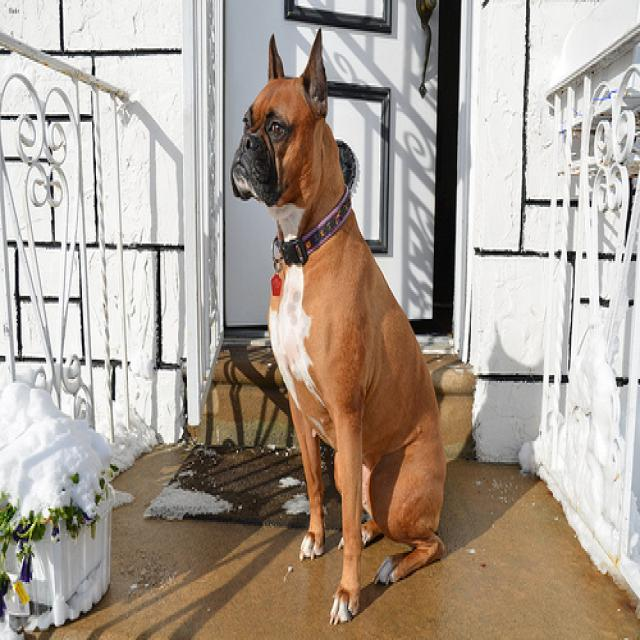dog-boxer: (227, 19, 451, 634)
